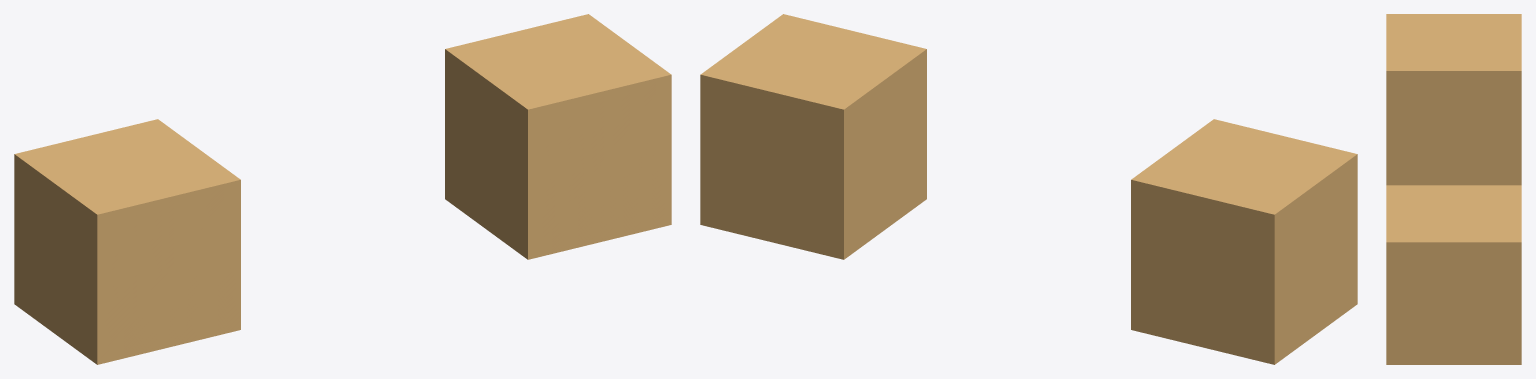
The model's file is NodeAnimated.gltf.
The picture shows the model from 3 angles, left to right: view 1: azimuth 30°, elevation 25°; view 2: azimuth 150°, elevation 25°; view 3: azimuth 270°, elevation 25°; orthographic projection. The views are drawn at different scales.
Visible parts, largest first — view 1: Spinner, Still; view 2: Spinner, Still; view 3: Still, Spinner.
Part boxes in pixels (left/top/right/bottom): Spinner: left=14, top=119, right=240, bottom=364; Still: left=445, top=14, right=671, bottom=259; Spinner: left=1131, top=119, right=1357, bottom=364; Still: left=700, top=14, right=926, bottom=259; Still: left=1386, top=185, right=1521, bottom=364; Spinner: left=1386, top=14, right=1521, bottom=185.
Bounding box in the file's own units: 4 × 1 × 1.
